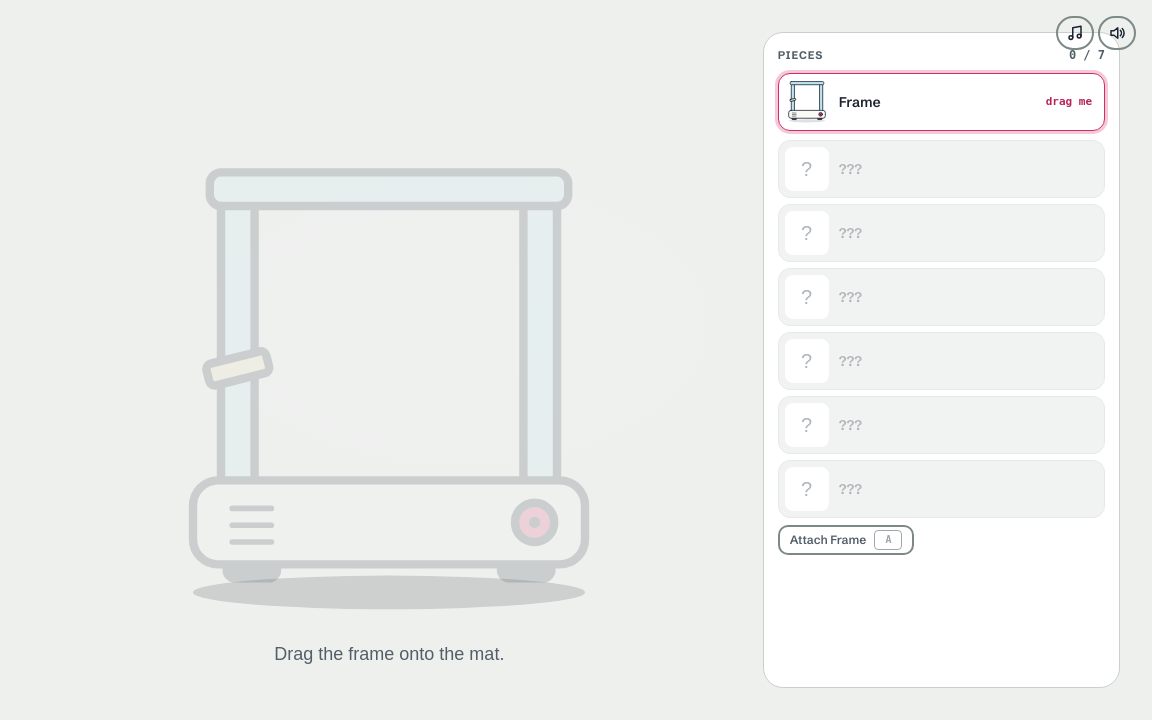
Test: the assembly bench › seats a piece dropped on the printer, and attaches it once its screws are turned
Press the mouse on the button "Frame drag me" at coordinates (807, 102), box [778, 73, 1105, 131]
Press the mouse on the button "Frame drag me" at coordinates (807, 102), box [778, 73, 1105, 131]
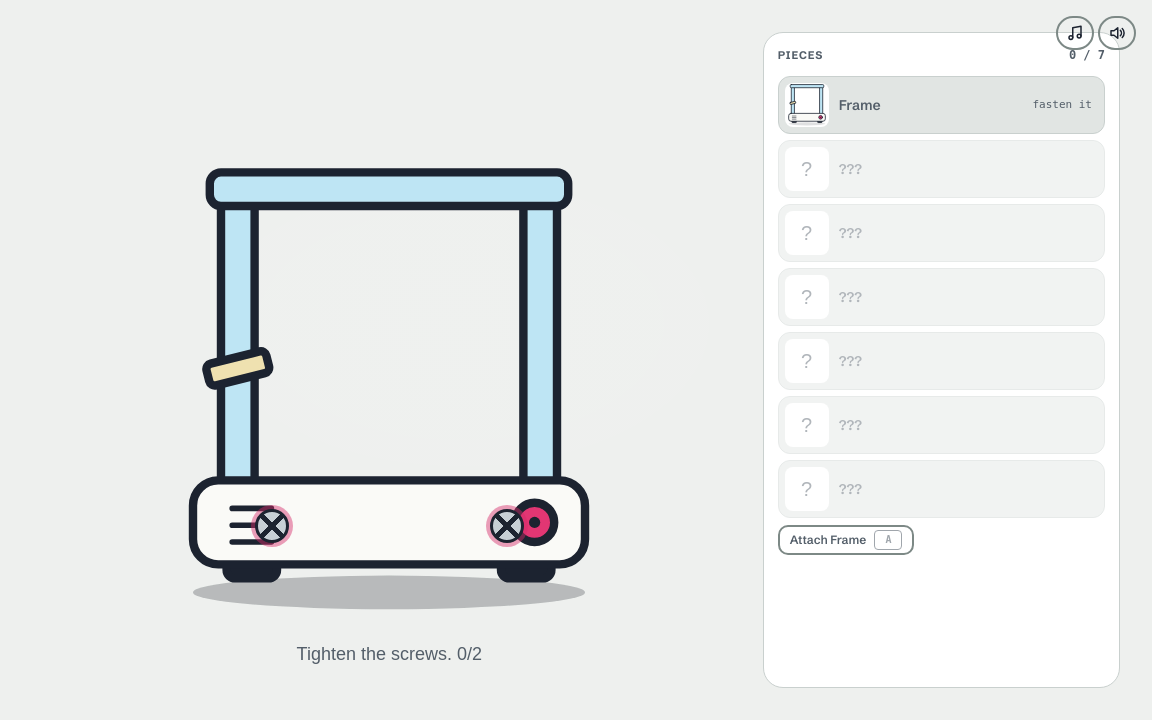
Click the button with test id "screw-0". click: coordinates (272, 526)
box: [255, 509, 289, 543]
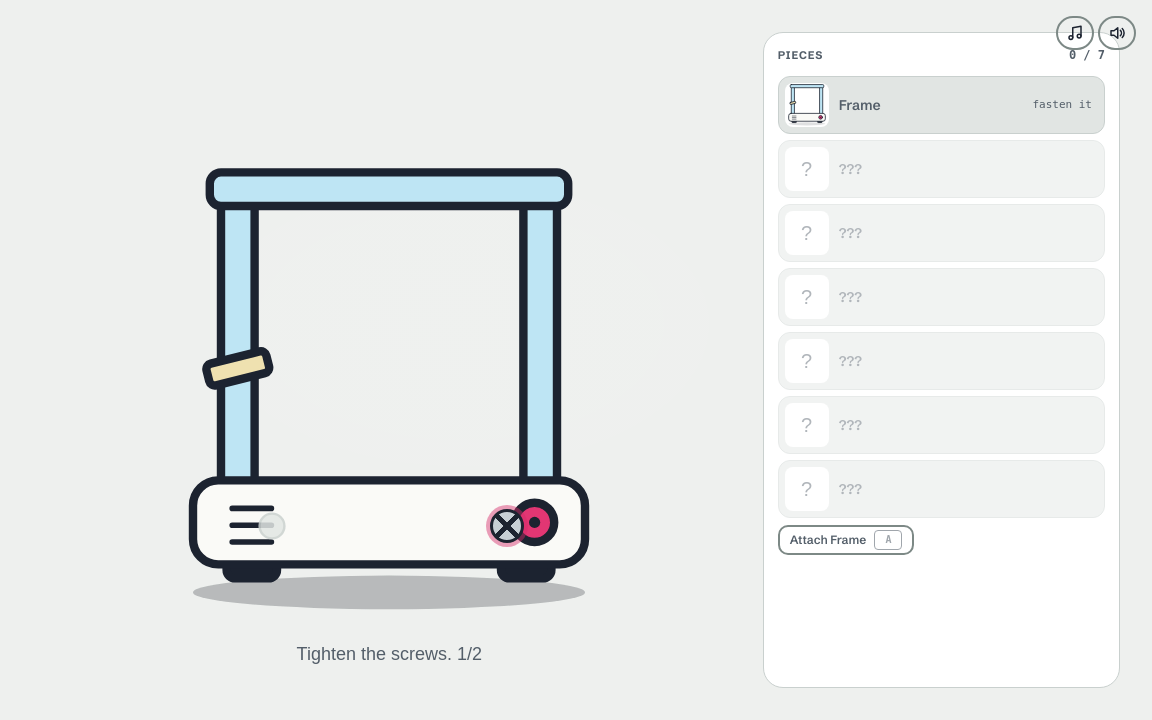
Click the button with test id "screw-1". click: coordinates (507, 526)
box: [490, 509, 524, 543]
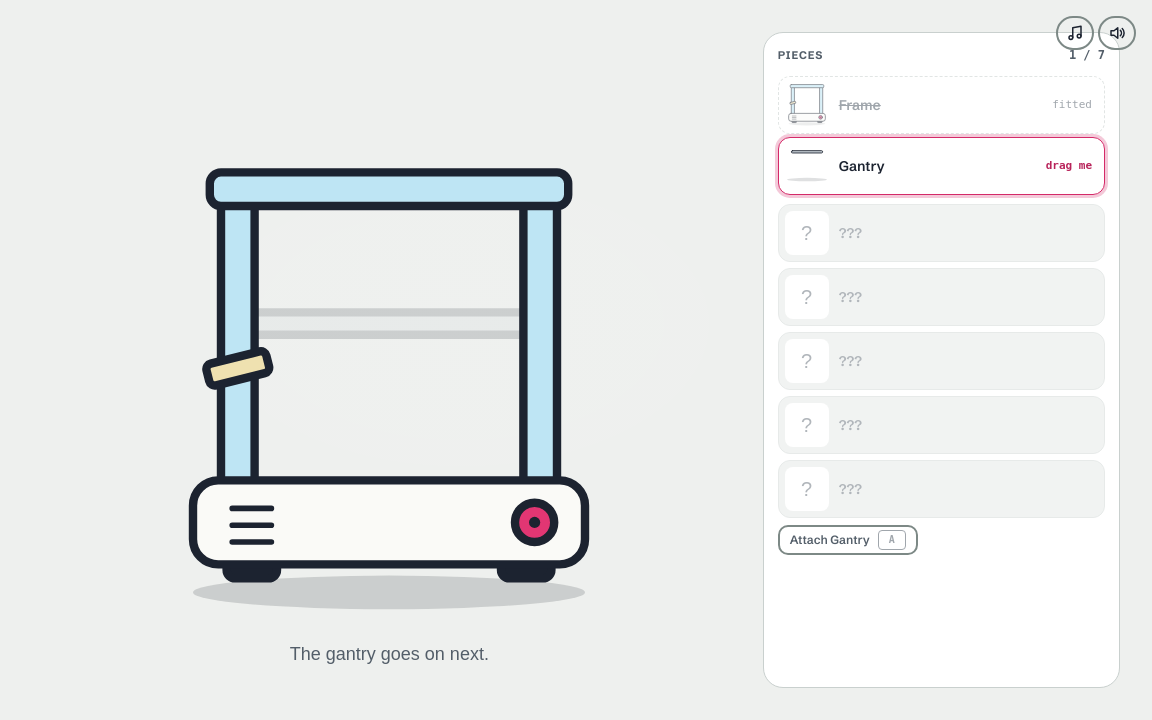
Now the button with test id "screw-0" is gone
